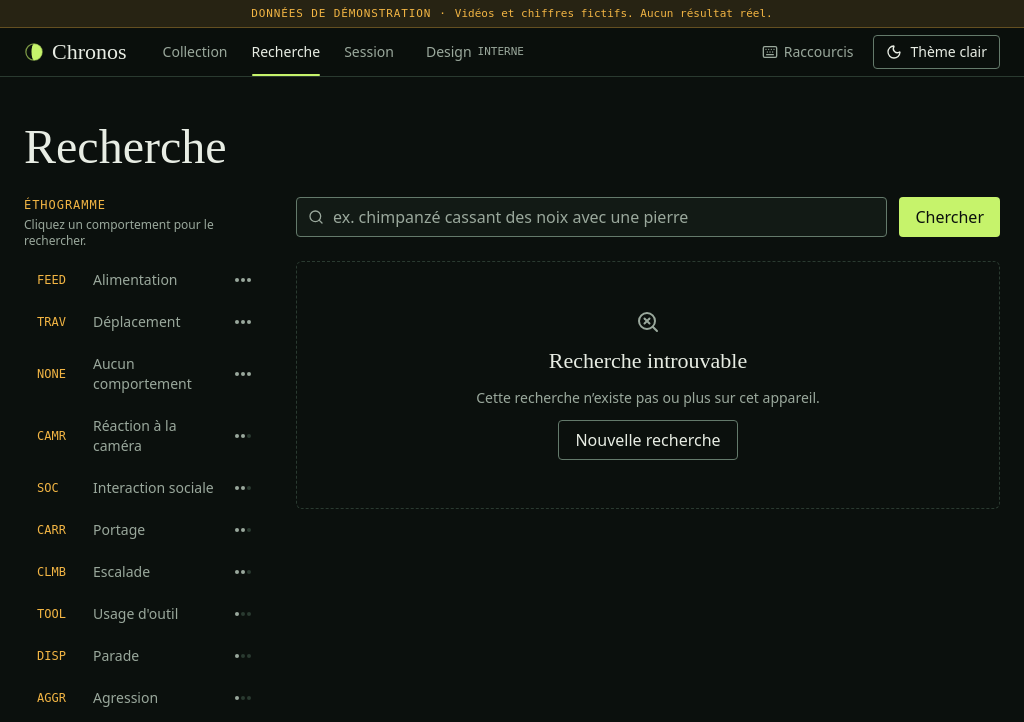
Test: écran Recherche › affiche un état dédié pour une recherche introuvable
Expected: the text "Recherche introuvable" is shown, [549,346,747,376]
Click the button "Nouvelle recherche" at (648, 440), box [558,420,738,460]
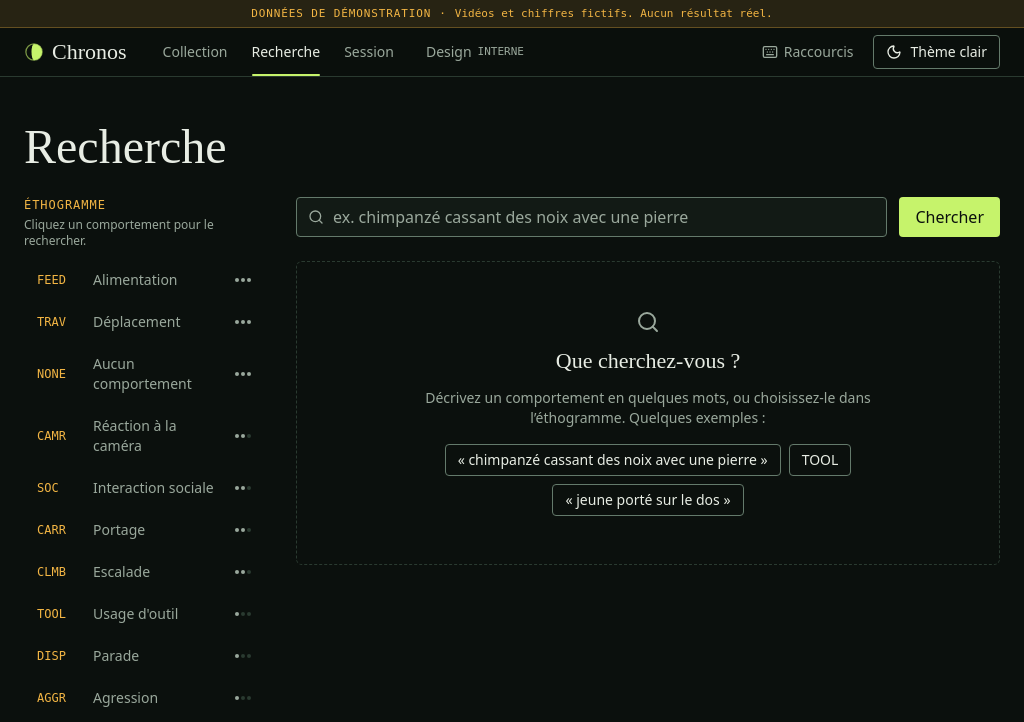
Result: the text "Que cherchez-vous ?" is shown at [556,346,740,376]
